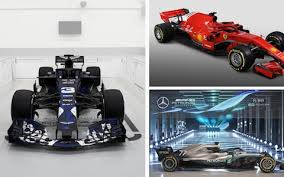f1_car: (3, 51, 133, 155), (150, 5, 284, 82), (151, 140, 284, 176)
